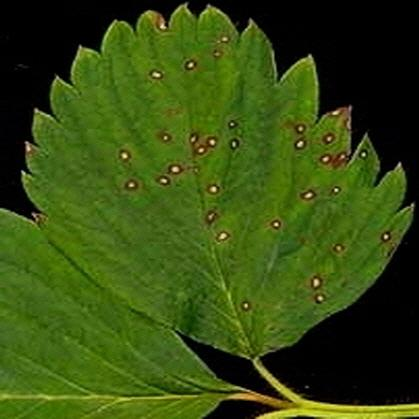Leaf Spot: (20, 1, 415, 359)
